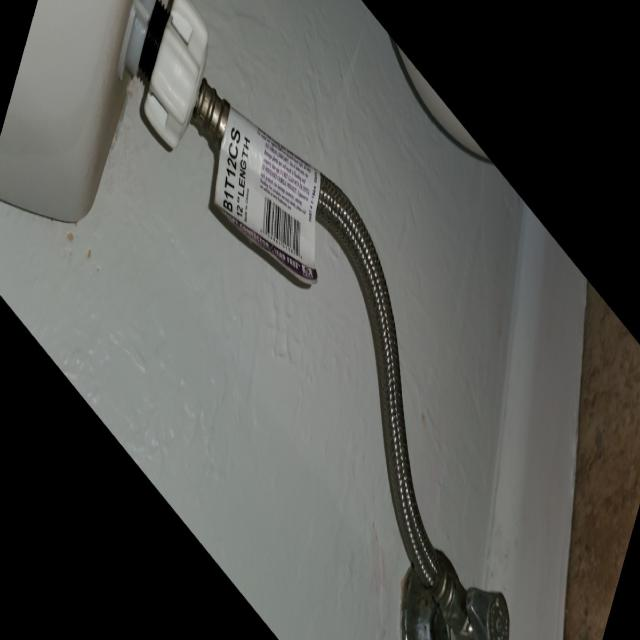good_coupler: (134, 1, 210, 156)
good_line: (197, 84, 461, 616)
good_valve: (439, 584, 508, 639)
